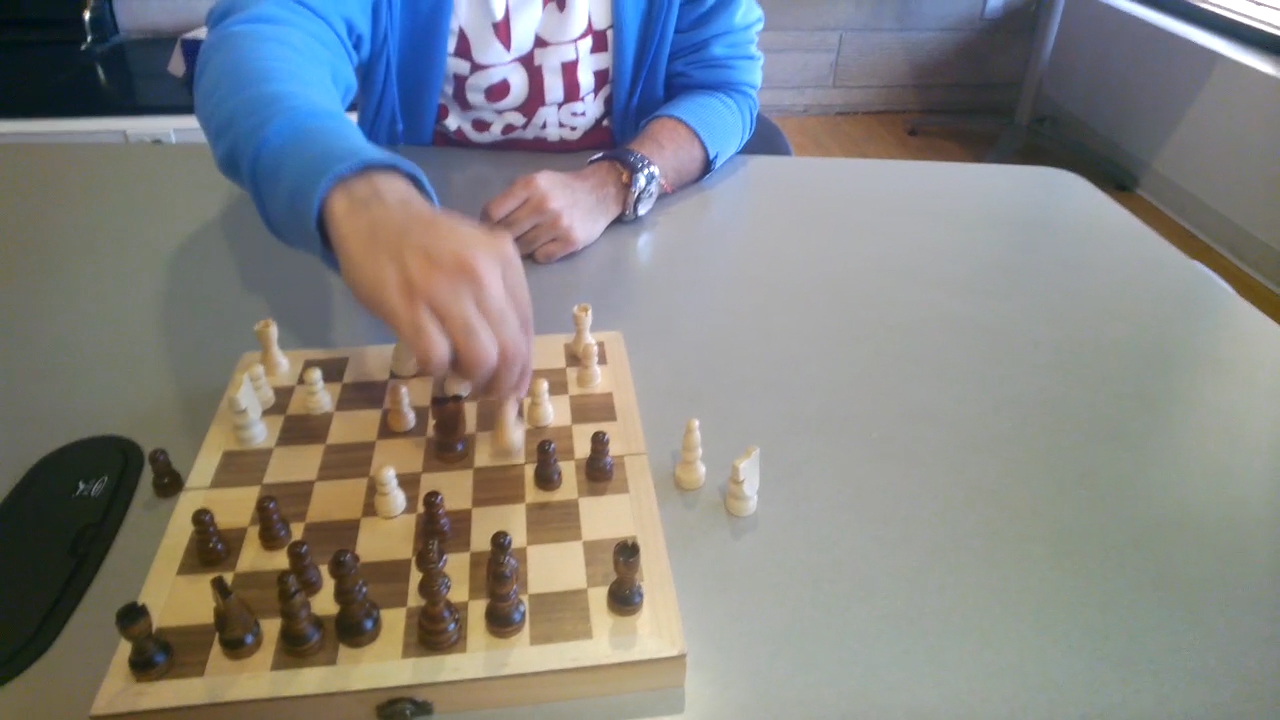hand: (328, 199, 527, 391), (484, 164, 620, 258)
